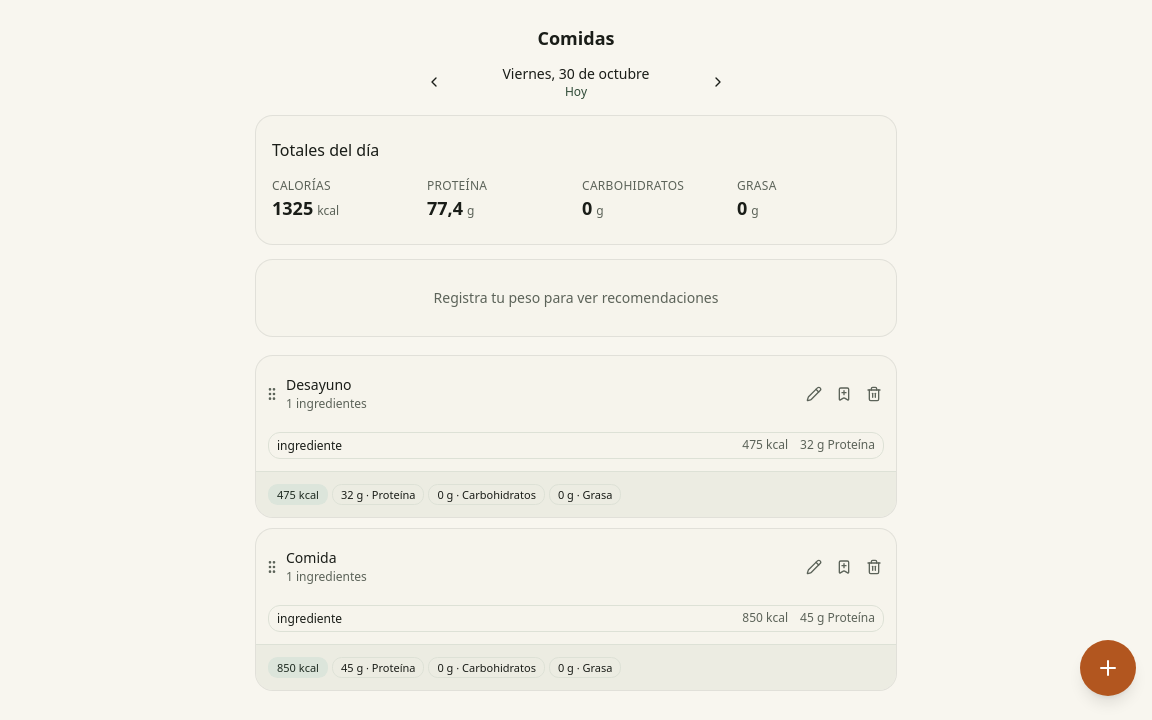
Scenario: pantalla Hoy › guardar sin título lo explica en el propio campo y lo enfoca; escribir lo quita
Check: the text "Desayuno" is shown, box [286,375,352,394]
Step 1. Click the button named "Añadir comida" → (1108, 668), box [1080,640,1136,696]
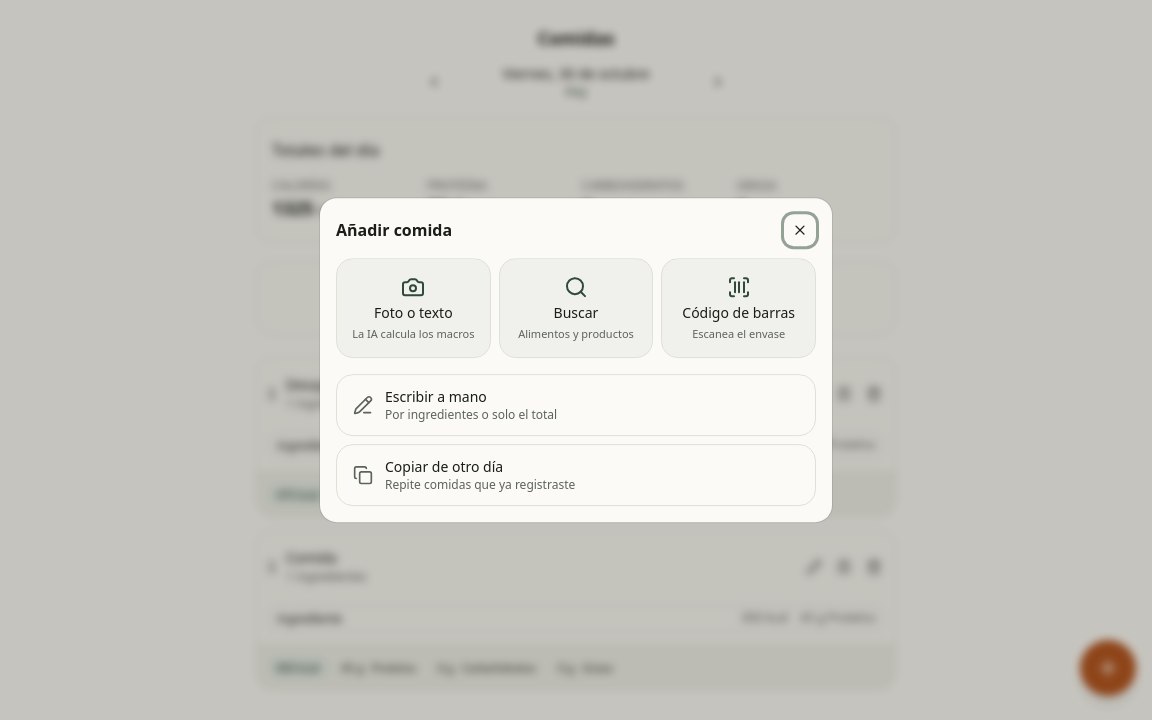
Step 2. Click the button "Escribir a mano Por ingredientes o solo el total" → (436, 396), box [336,374,816,436]
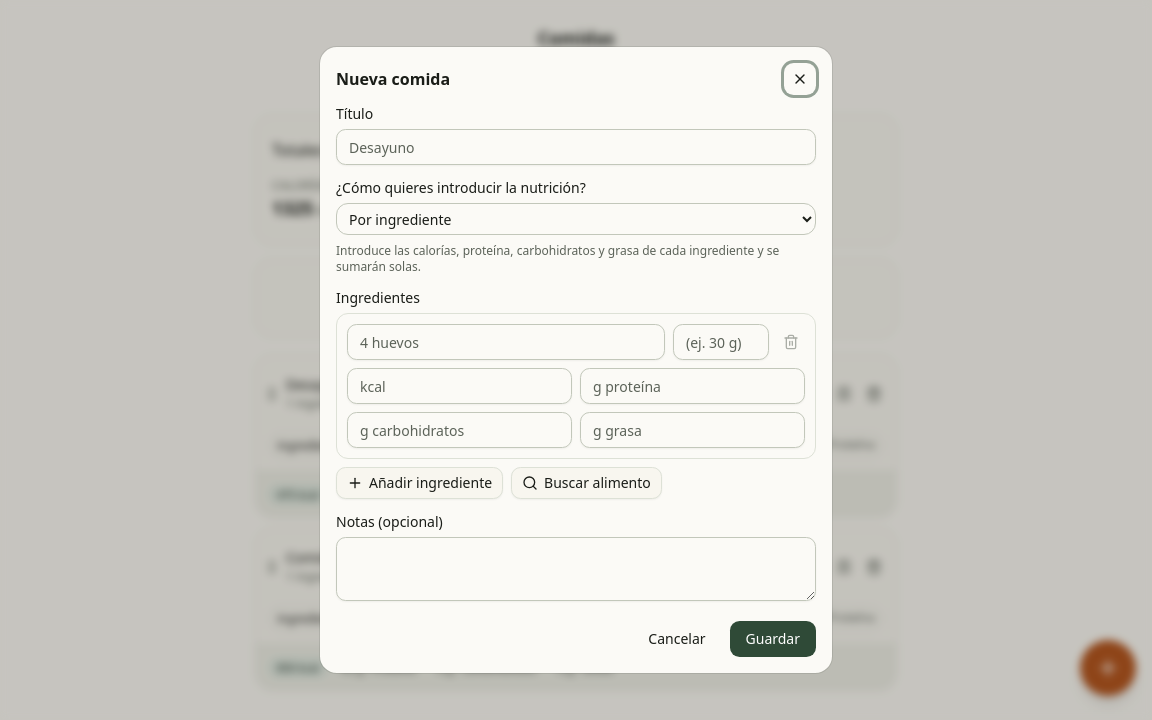
Step 3. Click the button "Guardar" → (773, 639), box [730,621,816,657]
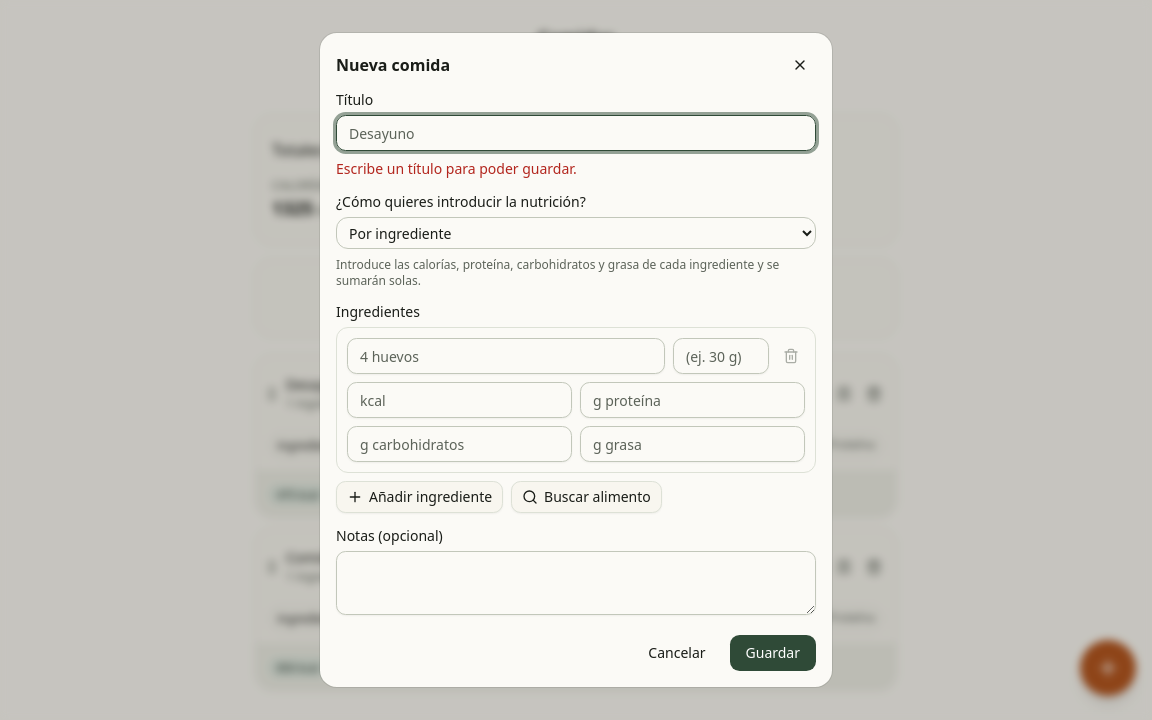
Check: the message reads "Escribe un título para poder guardar.", box [336,159,577,178]
Step 4. Type "Merienda" into the field labelled "Título" → (576, 133), box [336,115,816,151]
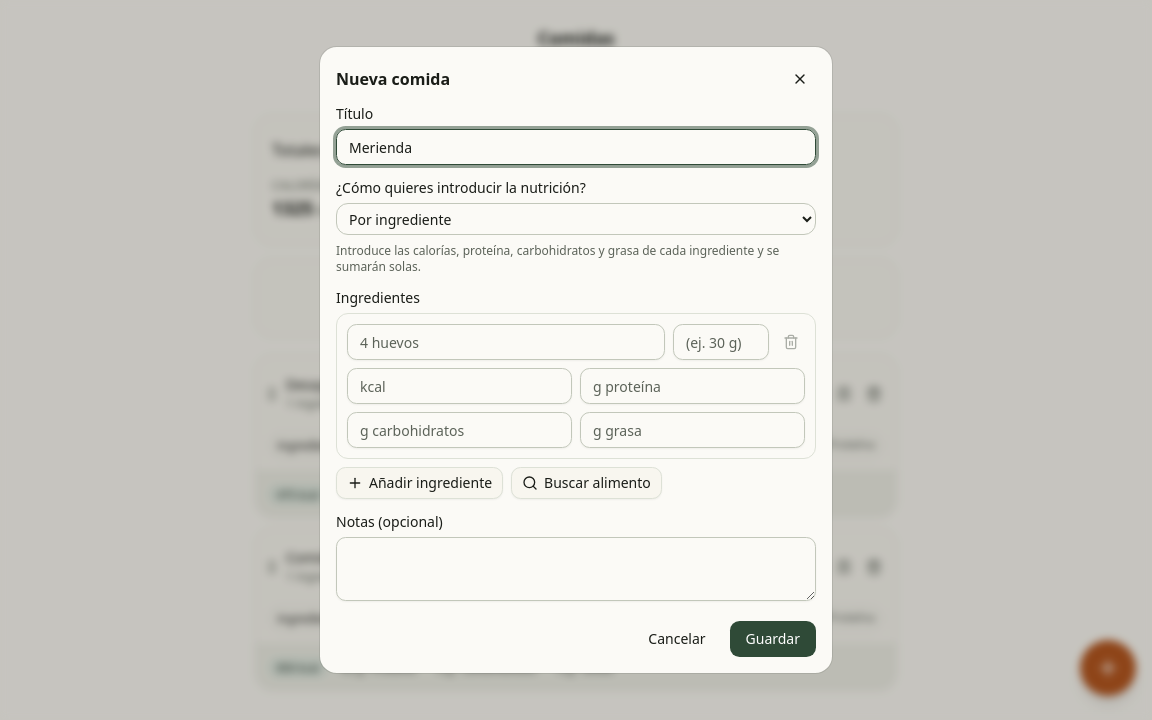
Check: the message "Escribe un título para poder guardar." is gone
